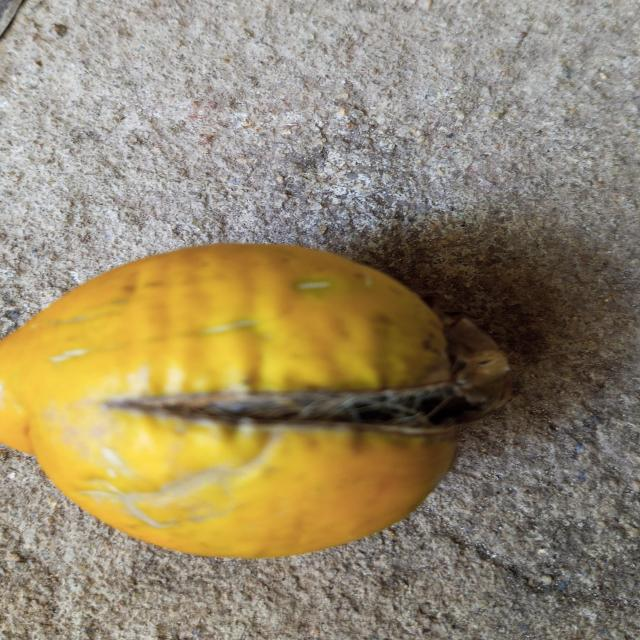damaged: (0, 244, 511, 562)
